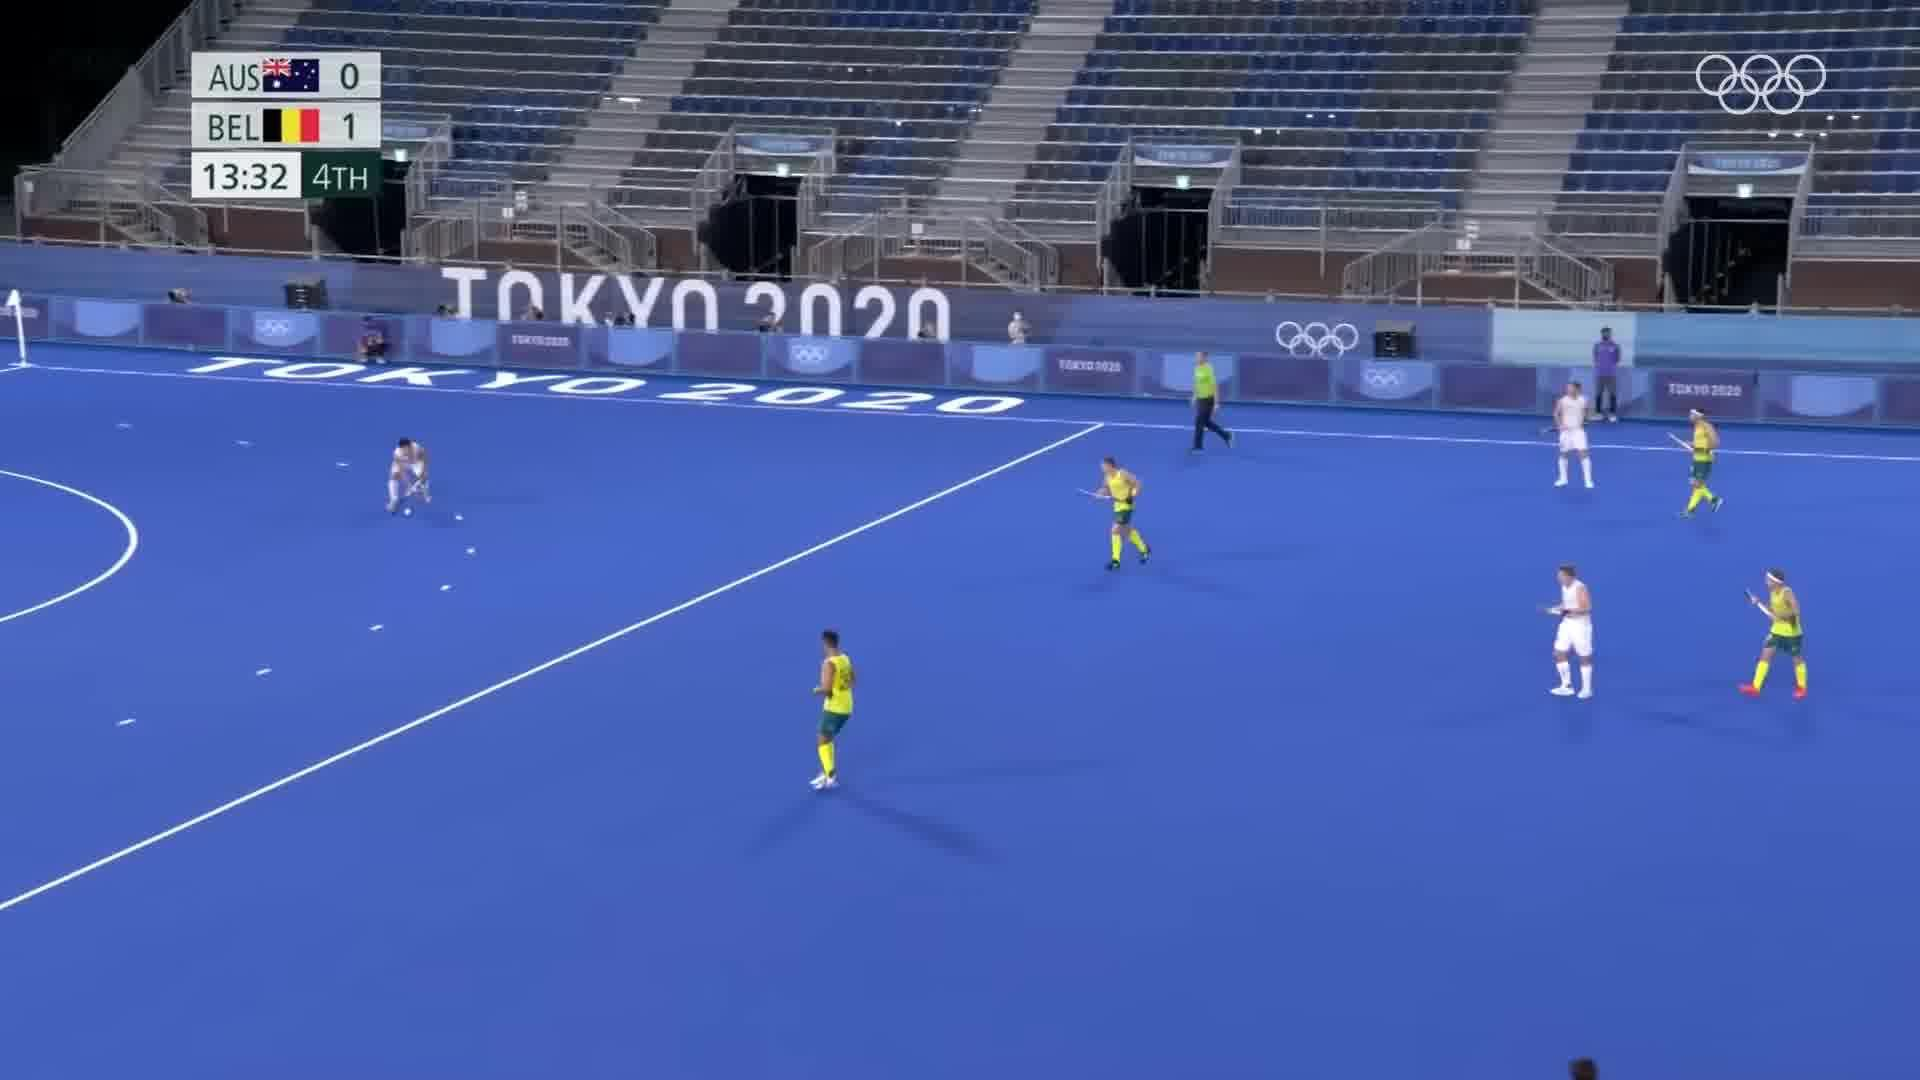ball: (400, 501, 415, 520)
